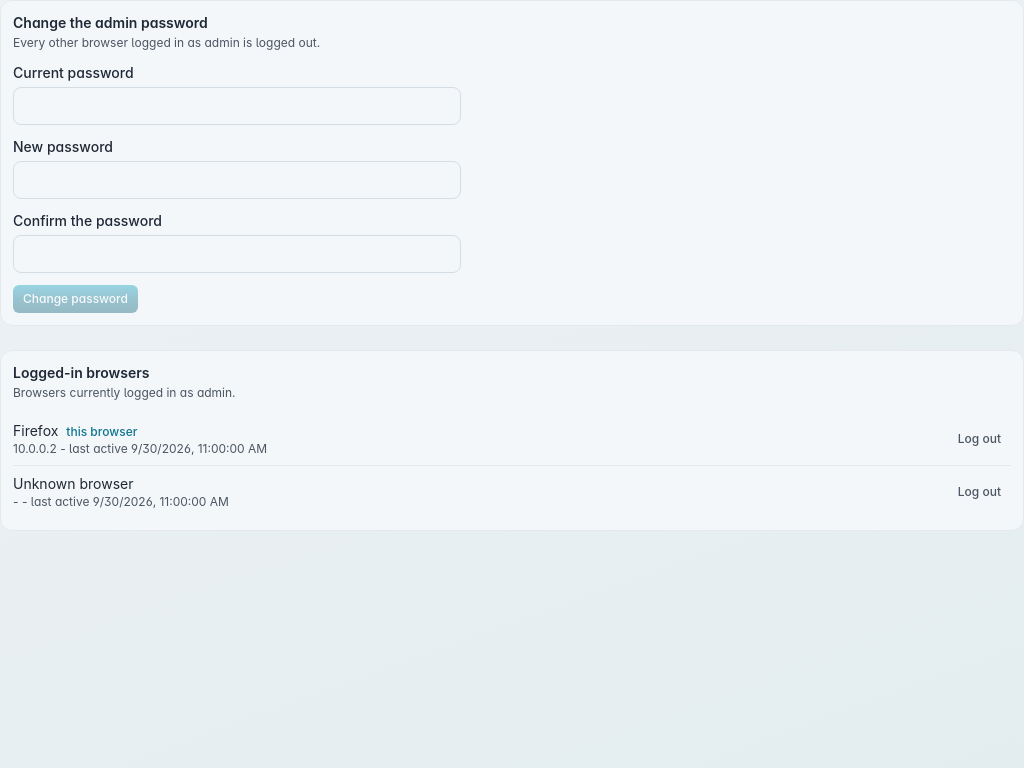
it: AdminSecurityPanel › checks the new password locally, then shows a wrong current password
Expected: the text "Firefox" is shown, [13, 422, 58, 439]
Type "old password" into the password field labelled "Current password". click: (237, 106)
box: [13, 87, 461, 125]
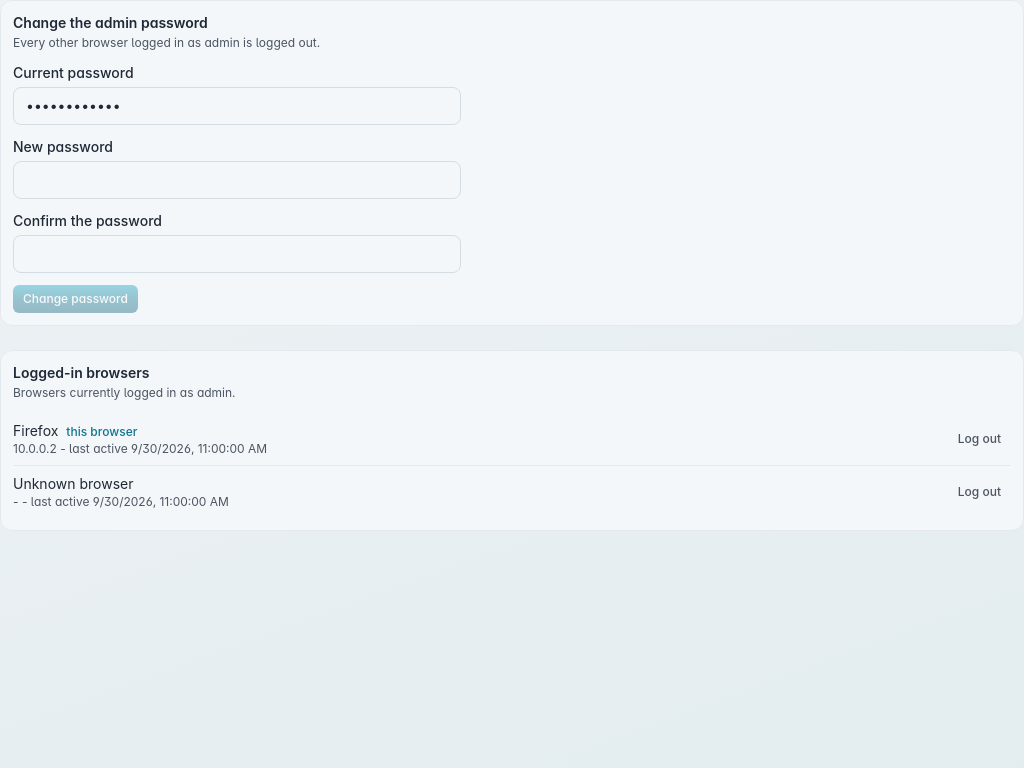
Type "short" into the password field labelled "New password". click: (237, 180)
box: [13, 161, 461, 199]
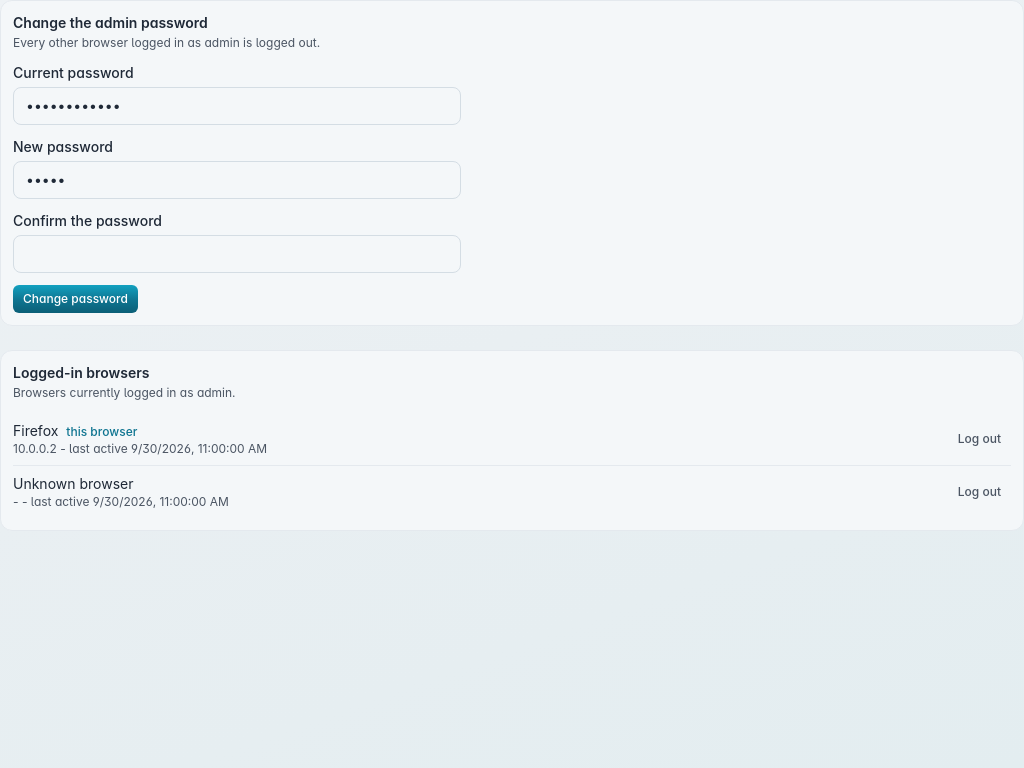
Click the button "Change password". click: click(75, 299)
box: [13, 285, 138, 313]
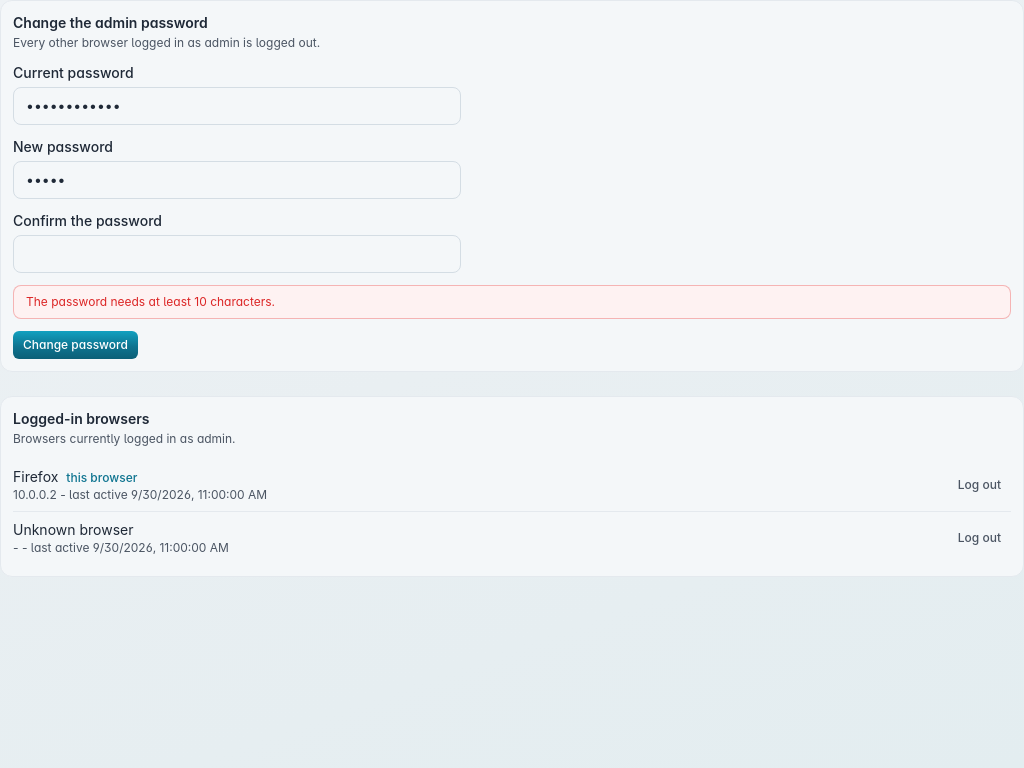
Expected: the message shows "at least 10", [26, 294, 275, 309]
Type "a new long password" into the password field labelled "New password". click: (237, 180)
box: [13, 161, 461, 199]
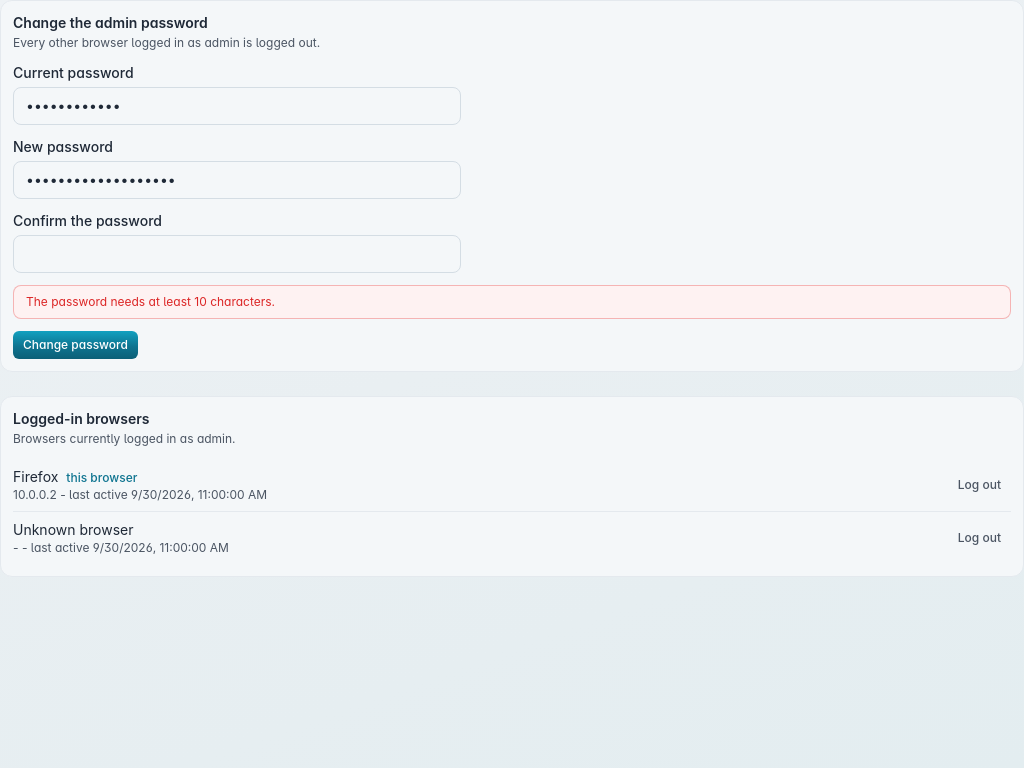
Type "a new long password" into the password field labelled "Confirm the password". click: (237, 254)
box: [13, 235, 461, 273]
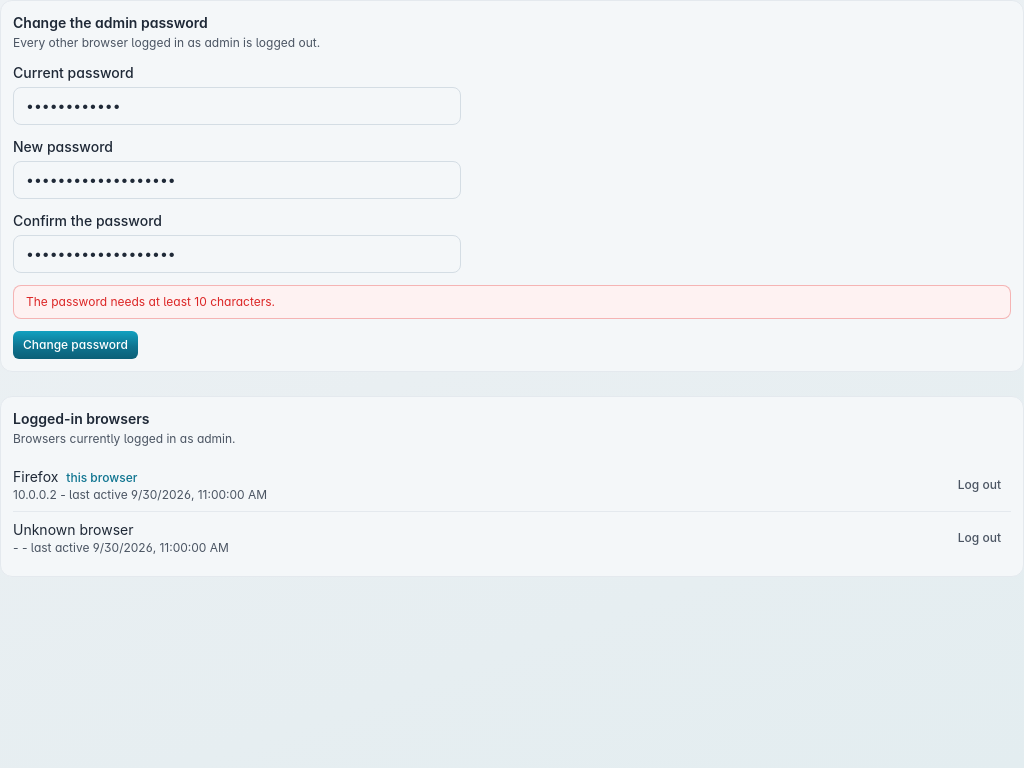
Click the button "Change password". click: click(75, 345)
box: [13, 331, 138, 359]
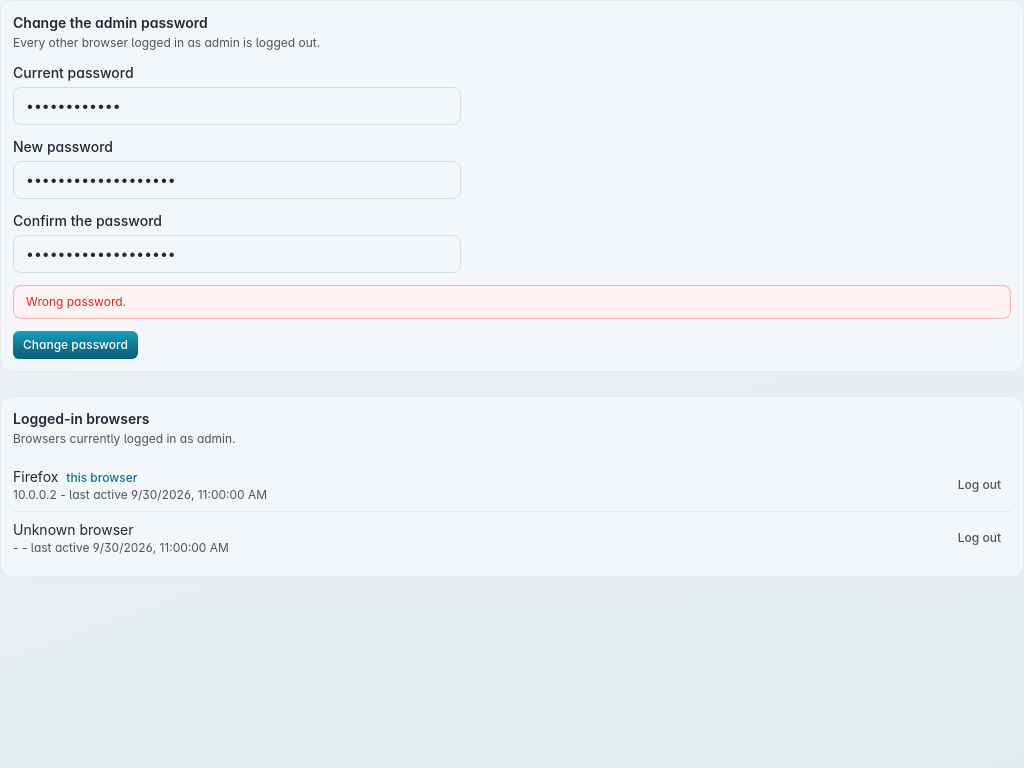
Expected: the message shows "Wrong password", [26, 294, 126, 309]
